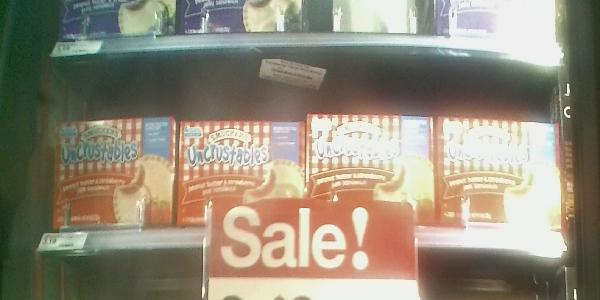icecream: (302, 106, 434, 256), (173, 109, 311, 243), (437, 112, 563, 257), (51, 112, 178, 242)
